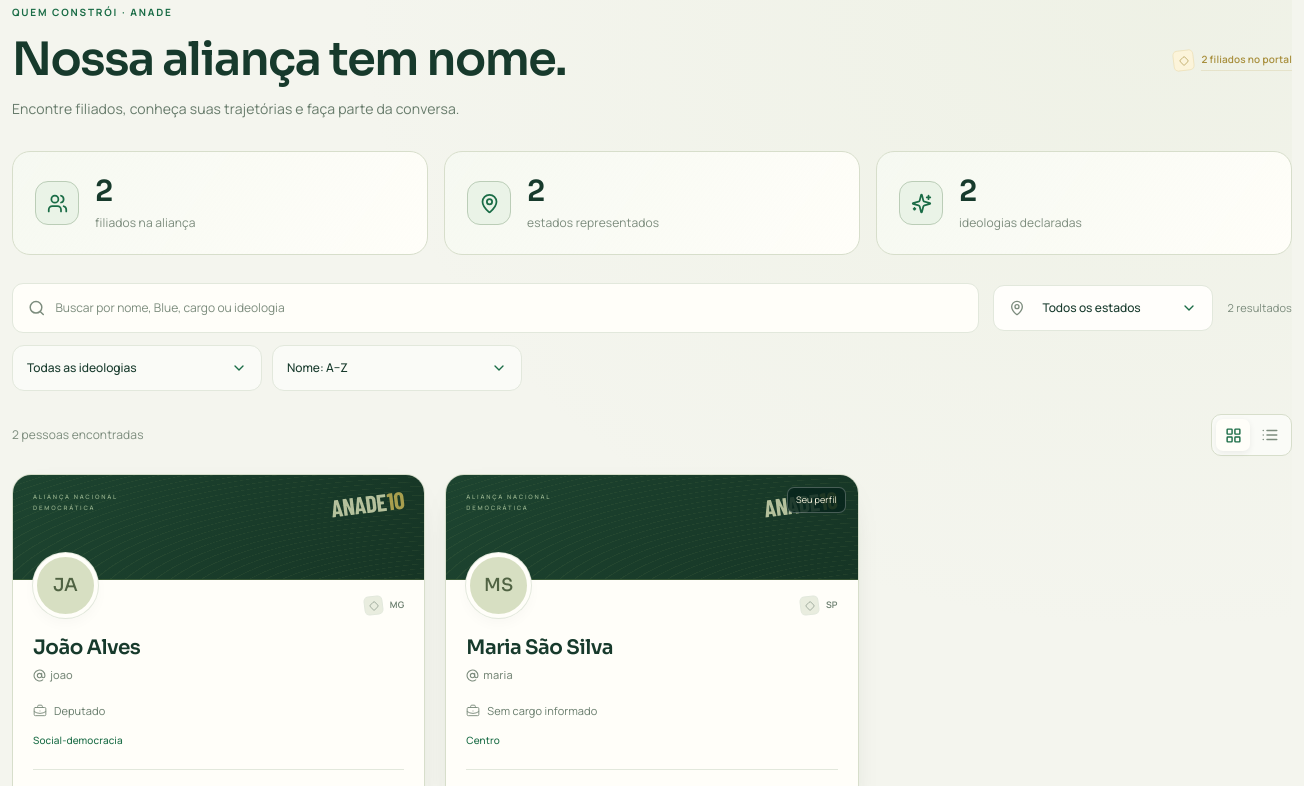
Test: filiados aceita busca sem acentos e limpa estados sem alterar cadastros
Click the button named "Exibir em lista": (1270, 436) [1253,420,1287,452]
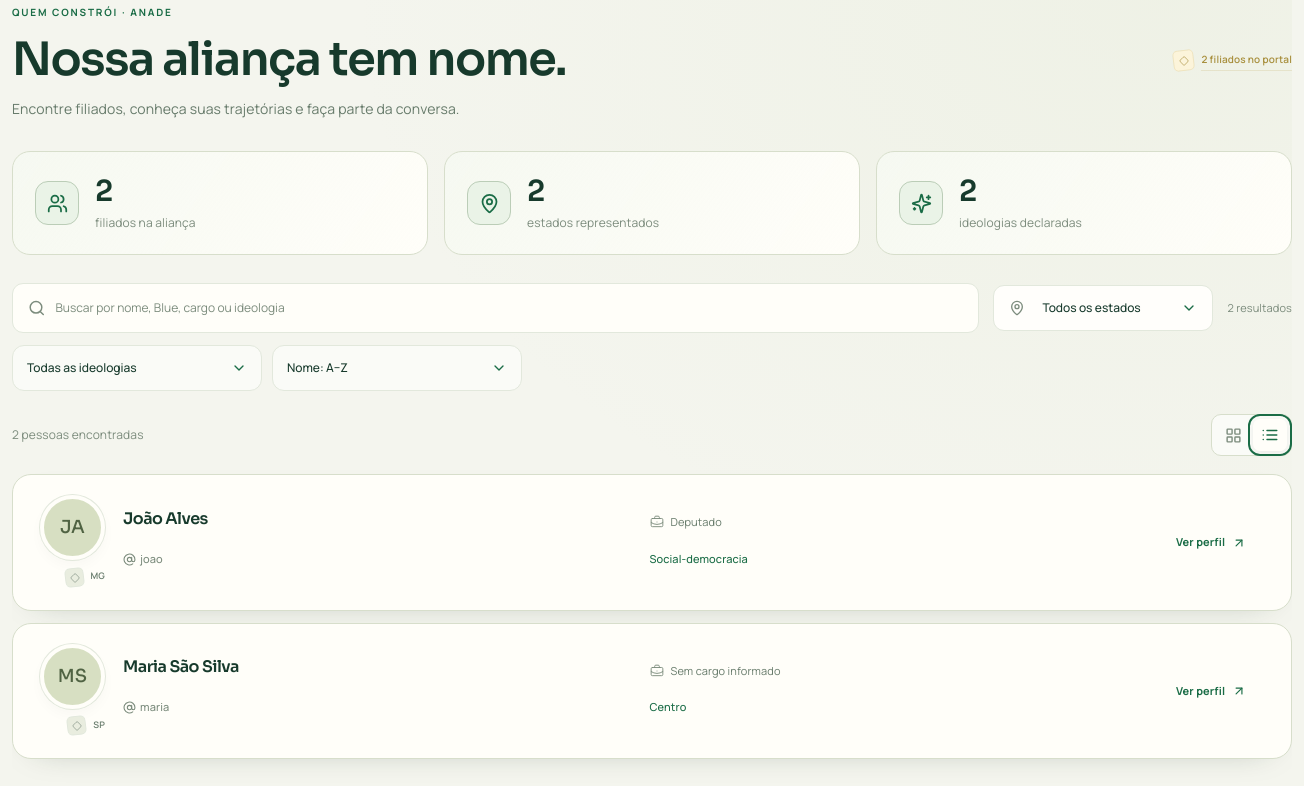
Expected: the button named "Exibir em lista" is pressed, [1253,420,1287,452]
In the field named "Buscar filiados": (509, 308) [56,284,963,332], type "sao"
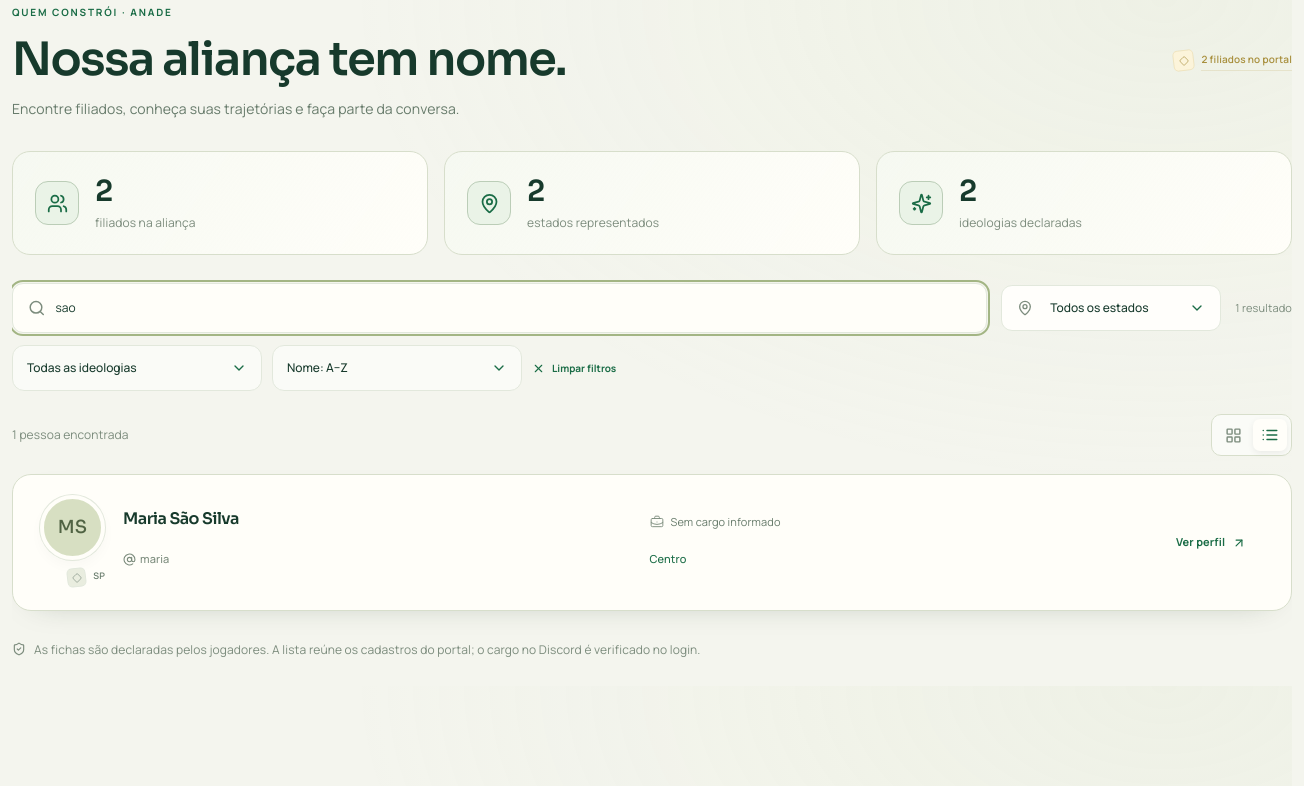
Expected: the link with aria-label "Ver perfil de Maria São Silva" is shown, [12,474,1292,611]
Click the button "Limpar filtros": (574, 368) [532,361,616,376]
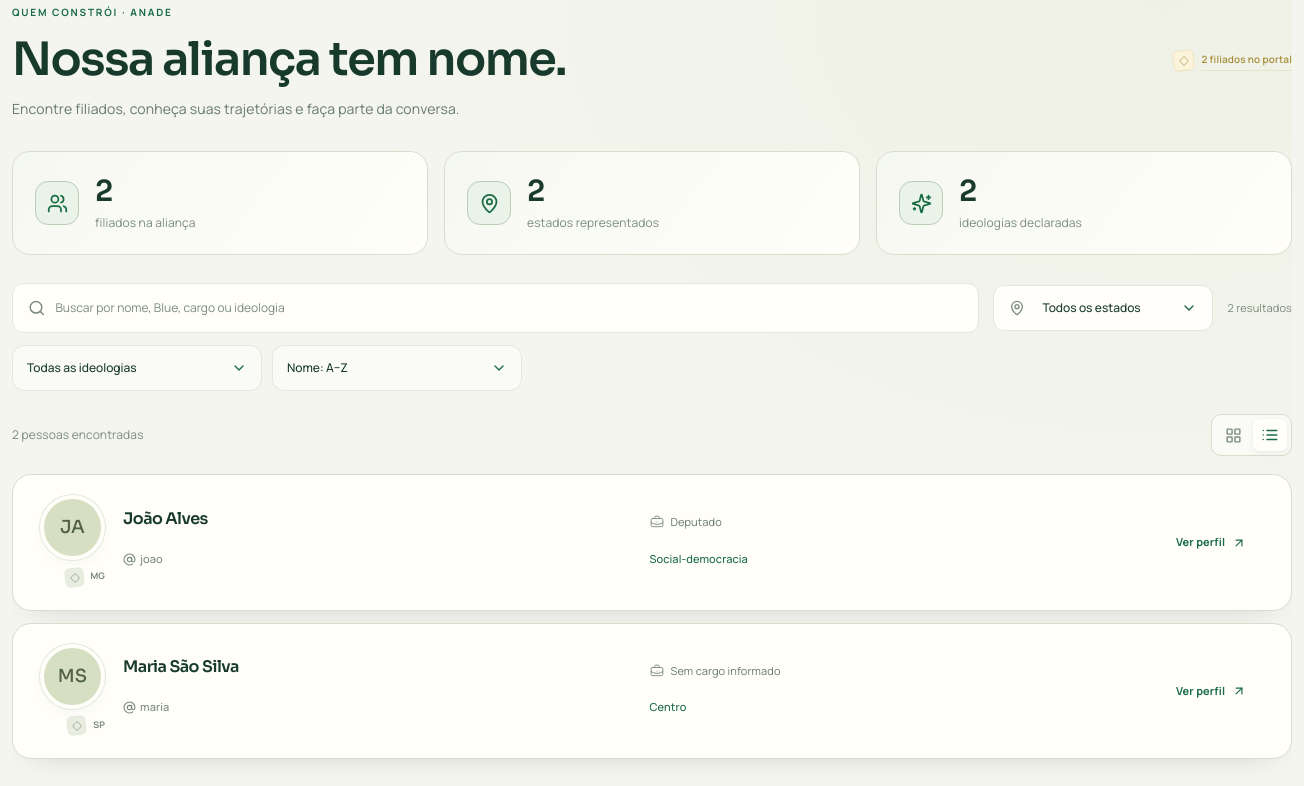
Expected: the link with aria-label "Ver perfil de João Alves" is shown, [12,474,1292,611]
